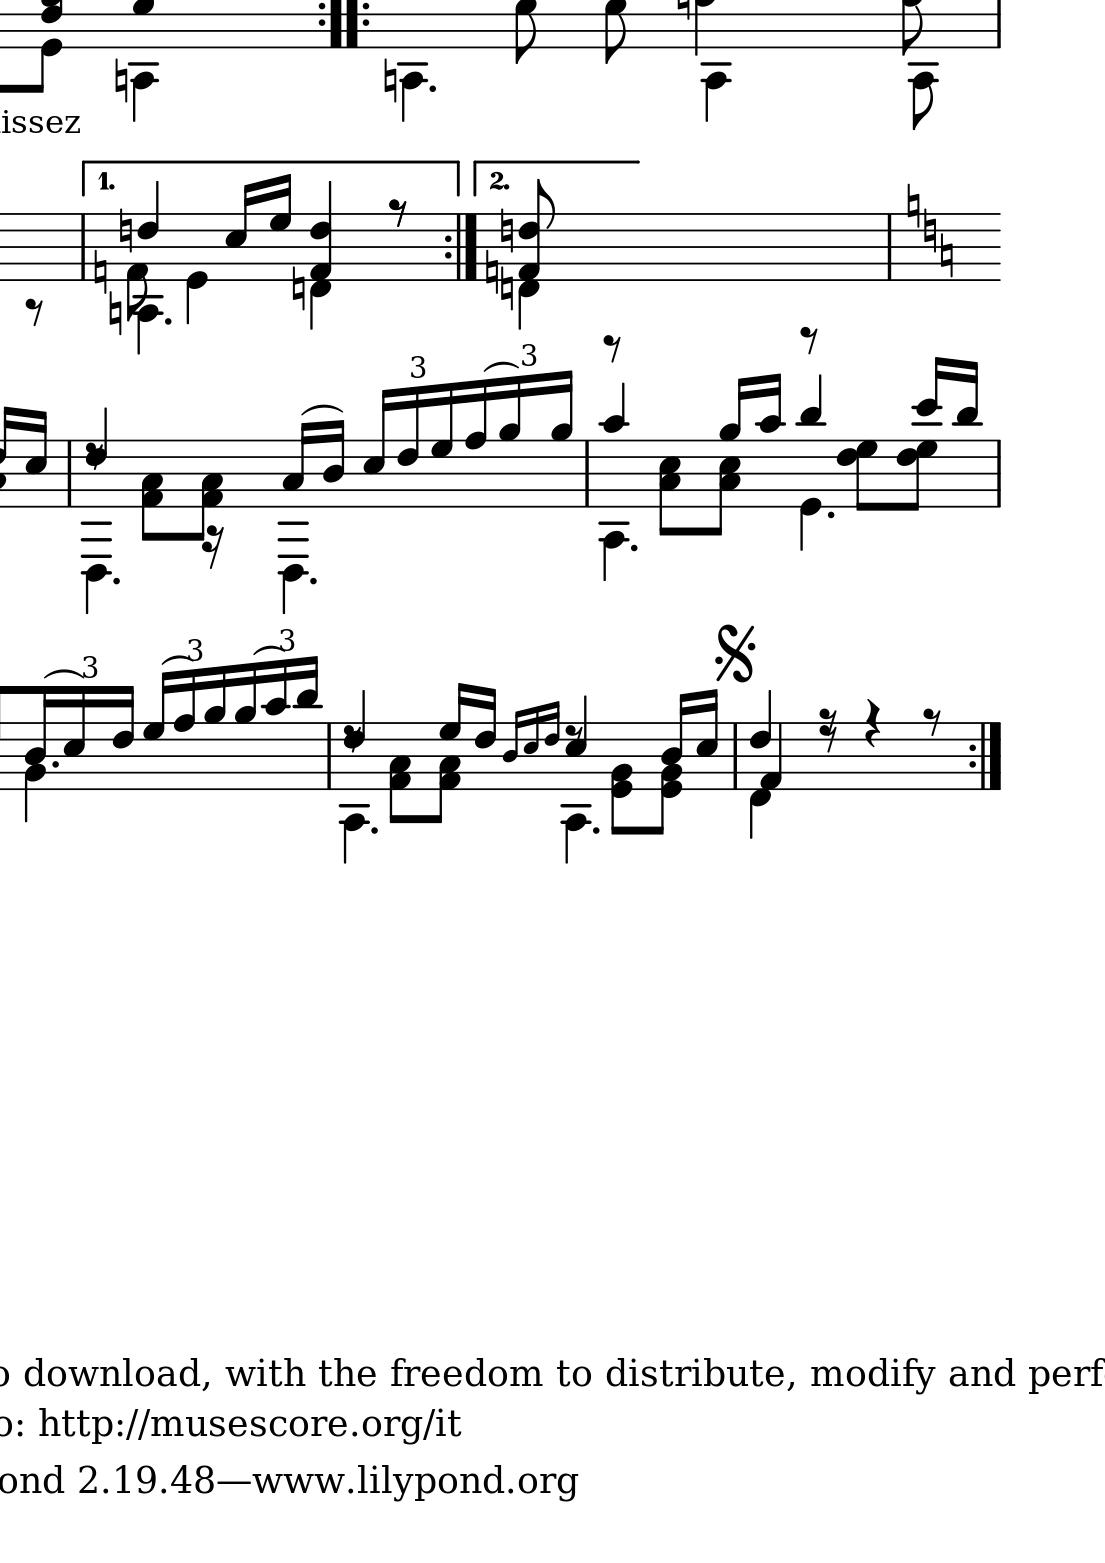16_10: (757, 371, 785, 508), (260, 659, 288, 790)
16_11: (954, 359, 979, 511), (293, 654, 319, 794)
16_3: (280, 419, 315, 508)
16_4: (320, 419, 344, 509), (501, 706, 523, 790)
16_5: (361, 385, 392, 509), (222, 179, 256, 281), (60, 683, 87, 793), (694, 686, 719, 790), (23, 407, 48, 509), (563, 692, 590, 790), (521, 703, 538, 792)
16_6: (395, 385, 420, 508), (110, 682, 135, 792), (472, 684, 497, 792), (541, 700, 560, 790)
16_7: (142, 670, 169, 790), (431, 379, 453, 509), (268, 171, 292, 282)
16_8: (463, 377, 488, 509), (172, 667, 197, 790)
16_9: (497, 373, 521, 509), (232, 664, 257, 789), (202, 665, 226, 790)
3: (277, 625, 297, 653), (519, 341, 537, 370), (81, 653, 99, 680), (408, 354, 425, 380), (187, 636, 203, 663)
4_0: (183, 210, 208, 329), (796, 438, 822, 552)
4_10: (600, 380, 625, 514)
4_9: (549, 370, 574, 511)
8_1_3: (191, 436, 224, 543), (139, 439, 167, 543), (387, 720, 415, 826), (609, 720, 633, 837)
8_3_5: (712, 438, 741, 541), (658, 438, 684, 539)
8_6_7: (838, 439, 883, 513), (895, 436, 939, 511)
Natural: (484, 246, 502, 304), (496, 254, 513, 315), (497, 204, 515, 255), (903, 184, 922, 228), (920, 207, 939, 251), (938, 232, 957, 276), (381, 55, 398, 105), (289, 265, 306, 315), (106, 288, 123, 336), (116, 206, 133, 254), (91, 246, 106, 297), (112, 56, 128, 105)
Prima_volta: (77, 155, 469, 199)
Rests16: (199, 523, 226, 569), (816, 707, 840, 755)
Rests4: (861, 696, 883, 750)
Rests8: (920, 706, 944, 738), (22, 297, 45, 326), (796, 323, 819, 354), (600, 332, 623, 362), (386, 196, 407, 228)
RightRepeatSign: (964, 722, 1005, 790), (441, 213, 480, 279)
Seconda_volta: (469, 153, 647, 194)
Segno: (712, 623, 759, 683)
Single_barline: (727, 724, 743, 789), (881, 214, 897, 279), (61, 441, 77, 506), (579, 442, 594, 506), (320, 724, 336, 787), (991, 440, 1006, 507), (75, 214, 90, 280)
Slur: (301, 403, 343, 419), (41, 667, 83, 680), (481, 361, 520, 374), (160, 654, 193, 666), (252, 643, 281, 657)
dot: (590, 823, 603, 836), (368, 823, 380, 836), (161, 315, 173, 326), (48, 758, 60, 770), (426, 83, 436, 94), (628, 541, 639, 552), (307, 574, 318, 586), (110, 575, 121, 587), (825, 508, 836, 519)
